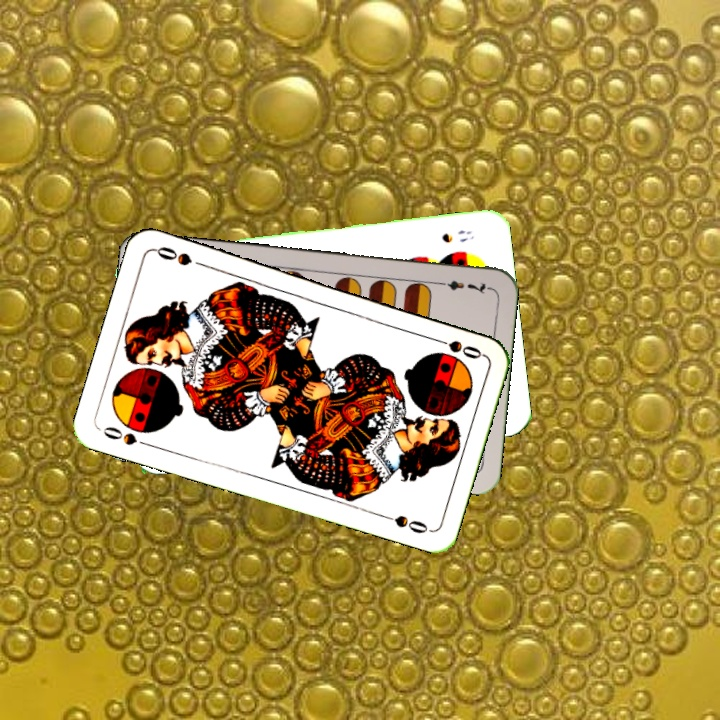E7: (433, 276, 492, 297)
S8: (438, 226, 477, 246)
SO: (427, 333, 485, 362), (99, 422, 154, 450)
